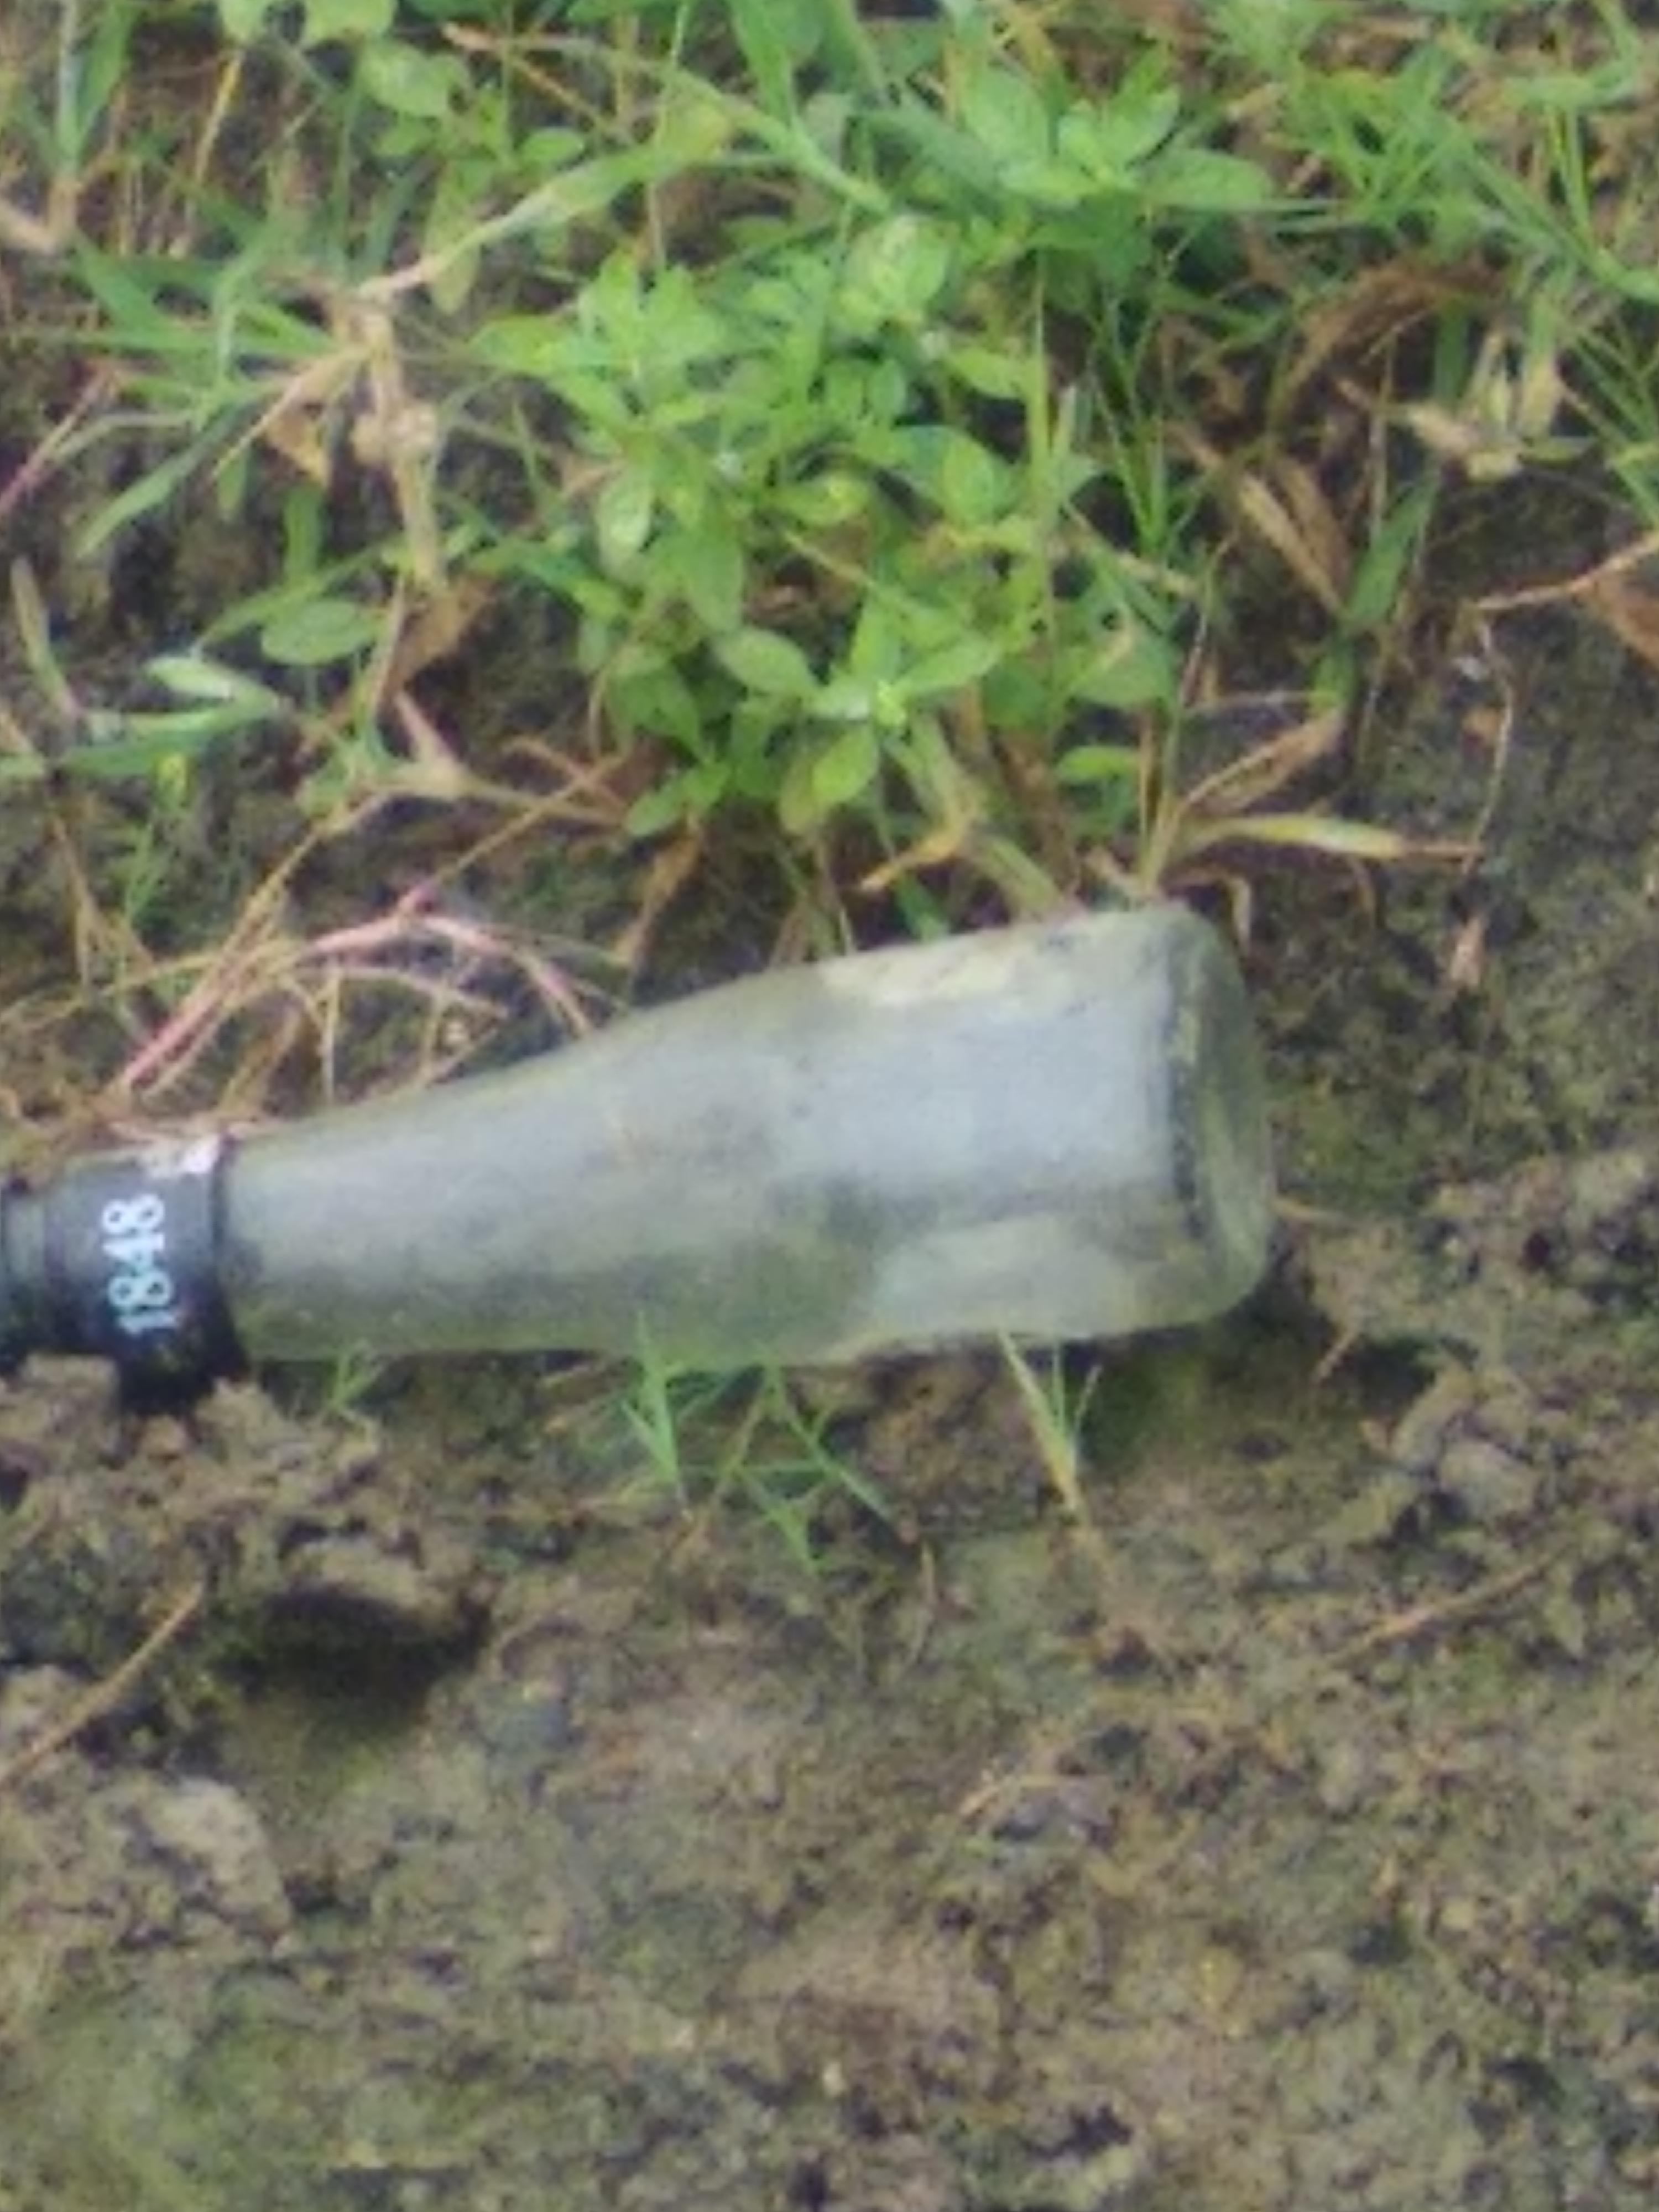trash: (0, 892, 1290, 1390)
